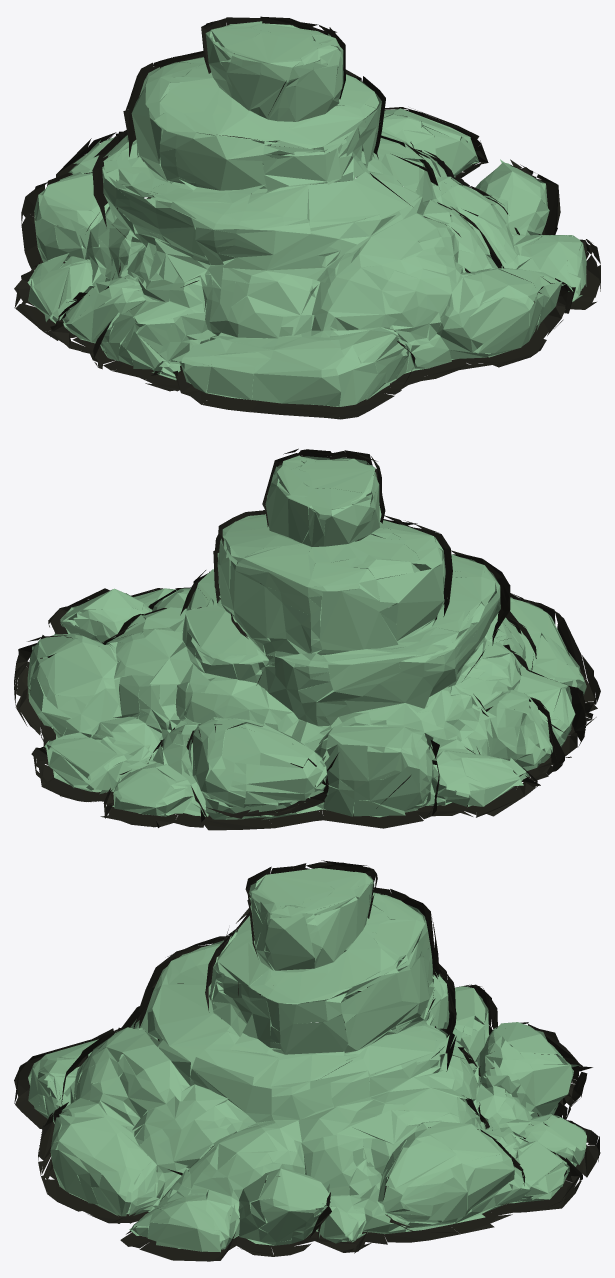
Rendered from df_v2_rock_moss_cluster_b_a.glb.
3 views of the same model, one above another, from view 1: azimuth 30°, elevation 25°; view 2: azimuth 150°, elevation 25°; view 3: azimuth 270°, elevation 25° (orthographic). The views are drawn at different scales.
Visible parts, largest first — view 1: rock_moss_cluster_b_mesh_01, rock_moss_cluster_b_mesh_01_ink_outline; view 2: rock_moss_cluster_b_mesh_01, rock_moss_cluster_b_mesh_01_ink_outline; view 3: rock_moss_cluster_b_mesh_01, rock_moss_cluster_b_mesh_01_ink_outline.
Boxes of the visible parts, x1,y1,x2,y2 form: rock_moss_cluster_b_mesh_01: (27,21,586,406); rock_moss_cluster_b_mesh_01_ink_outline: (14,16,600,419); rock_moss_cluster_b_mesh_01: (27,455,586,819); rock_moss_cluster_b_mesh_01_ink_outline: (14,448,600,830); rock_moss_cluster_b_mesh_01: (28,868,586,1252); rock_moss_cluster_b_mesh_01_ink_outline: (14,860,600,1261).
Size of the model in its own units: 1.02 by 0.5055 by 1.05.
